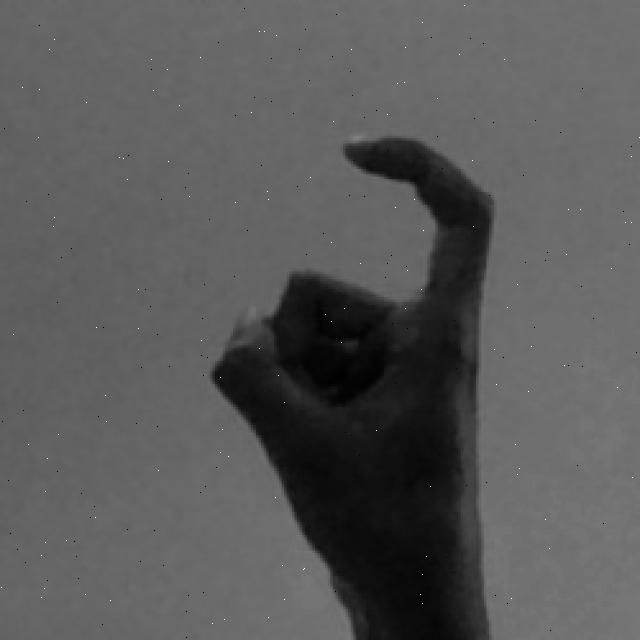X: (198, 125, 504, 640)
